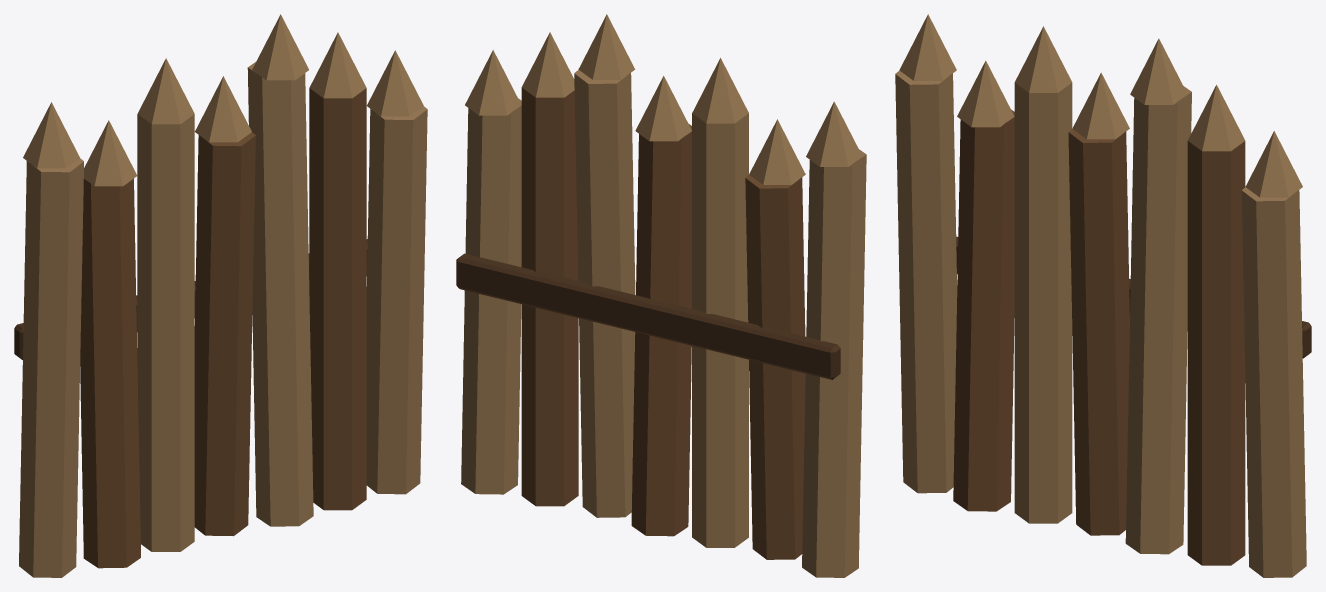
The model's file is palisade.fbx.
The picture shows the model from 3 angles, left to right: view 1: azimuth 30°, elevation 25°; view 2: azimuth 150°, elevation 25°; view 3: azimuth 330°, elevation 25°; orthographic projection.
Visible parts, largest first — view 1: Prop; view 2: Prop; view 3: Prop.
Boxes of the visible parts, x1,y1,x2,y2 form: Prop: [14, 14, 427, 577]; Prop: [456, 14, 866, 577]; Prop: [895, 14, 1311, 577].
Bounding box in the file's own units: 1.01 × 0.1743 × 1.25.
